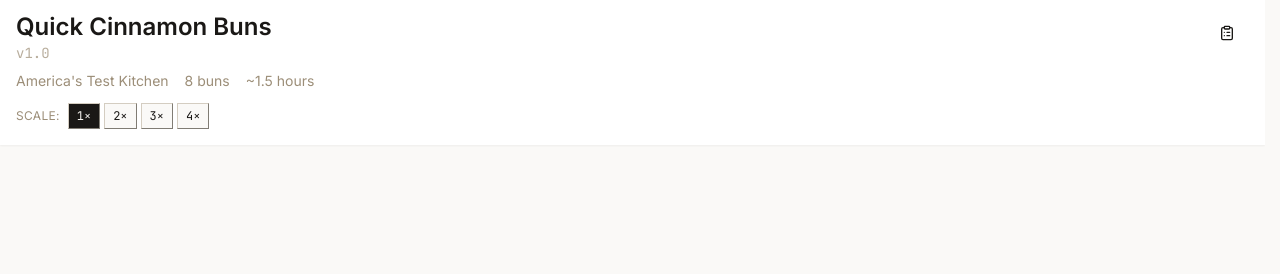
Test case: Scaling › dismisses a caveat when clicking ✕
The width and height of the screenshot is (1280, 274).
Click the button "2×" at (120, 116), box [104,103,137,129]
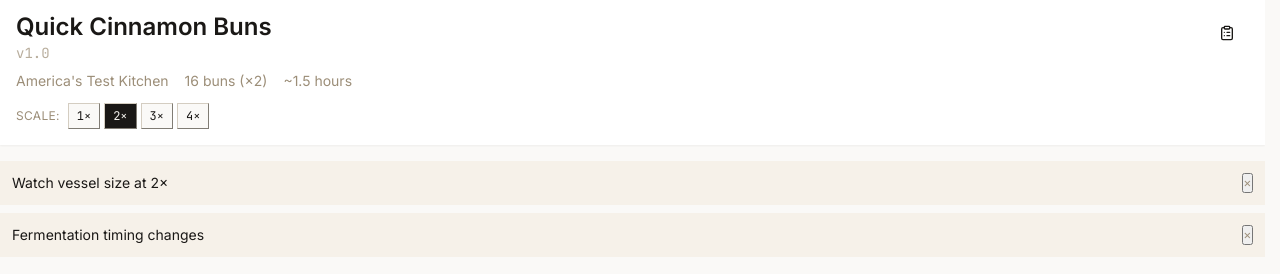
Expected: the text "Watch vessel size at 2×" is shown, [12,173,168,193]
Click the button "✕" in the row of "Watch vessel size at 2×" at (1247, 183), box [1242,173,1253,193]
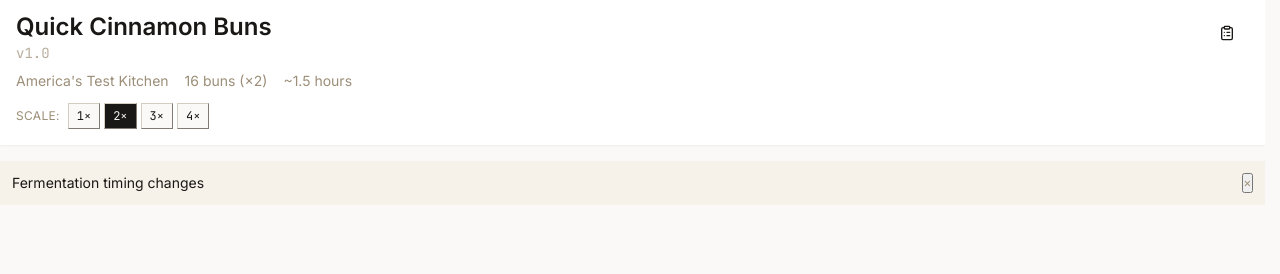
Expected: the text "Fermentation timing changes" is shown, [12,173,204,193]
Expected: the text "Watch vessel size at 2×" is gone
